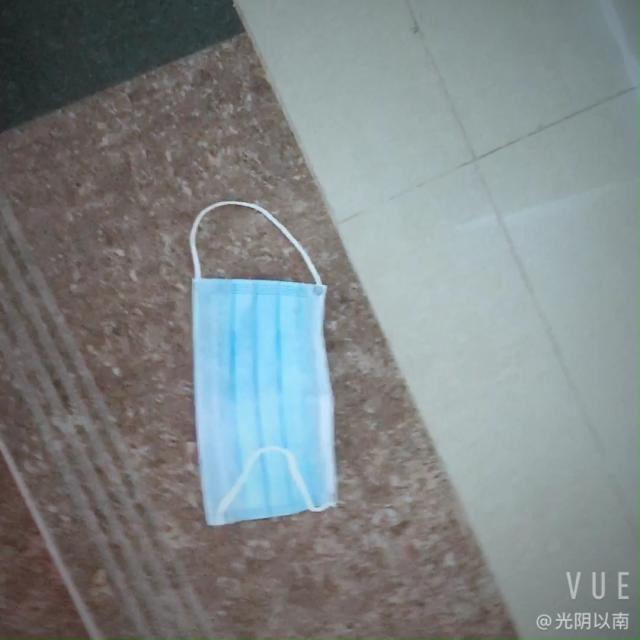face mask: (157, 249, 350, 530)
